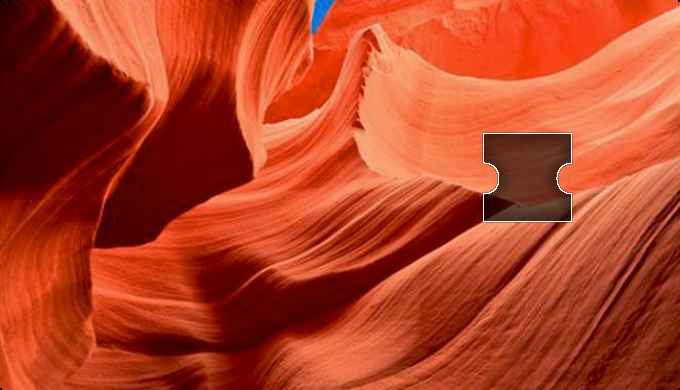gap: (482, 133, 573, 221)
